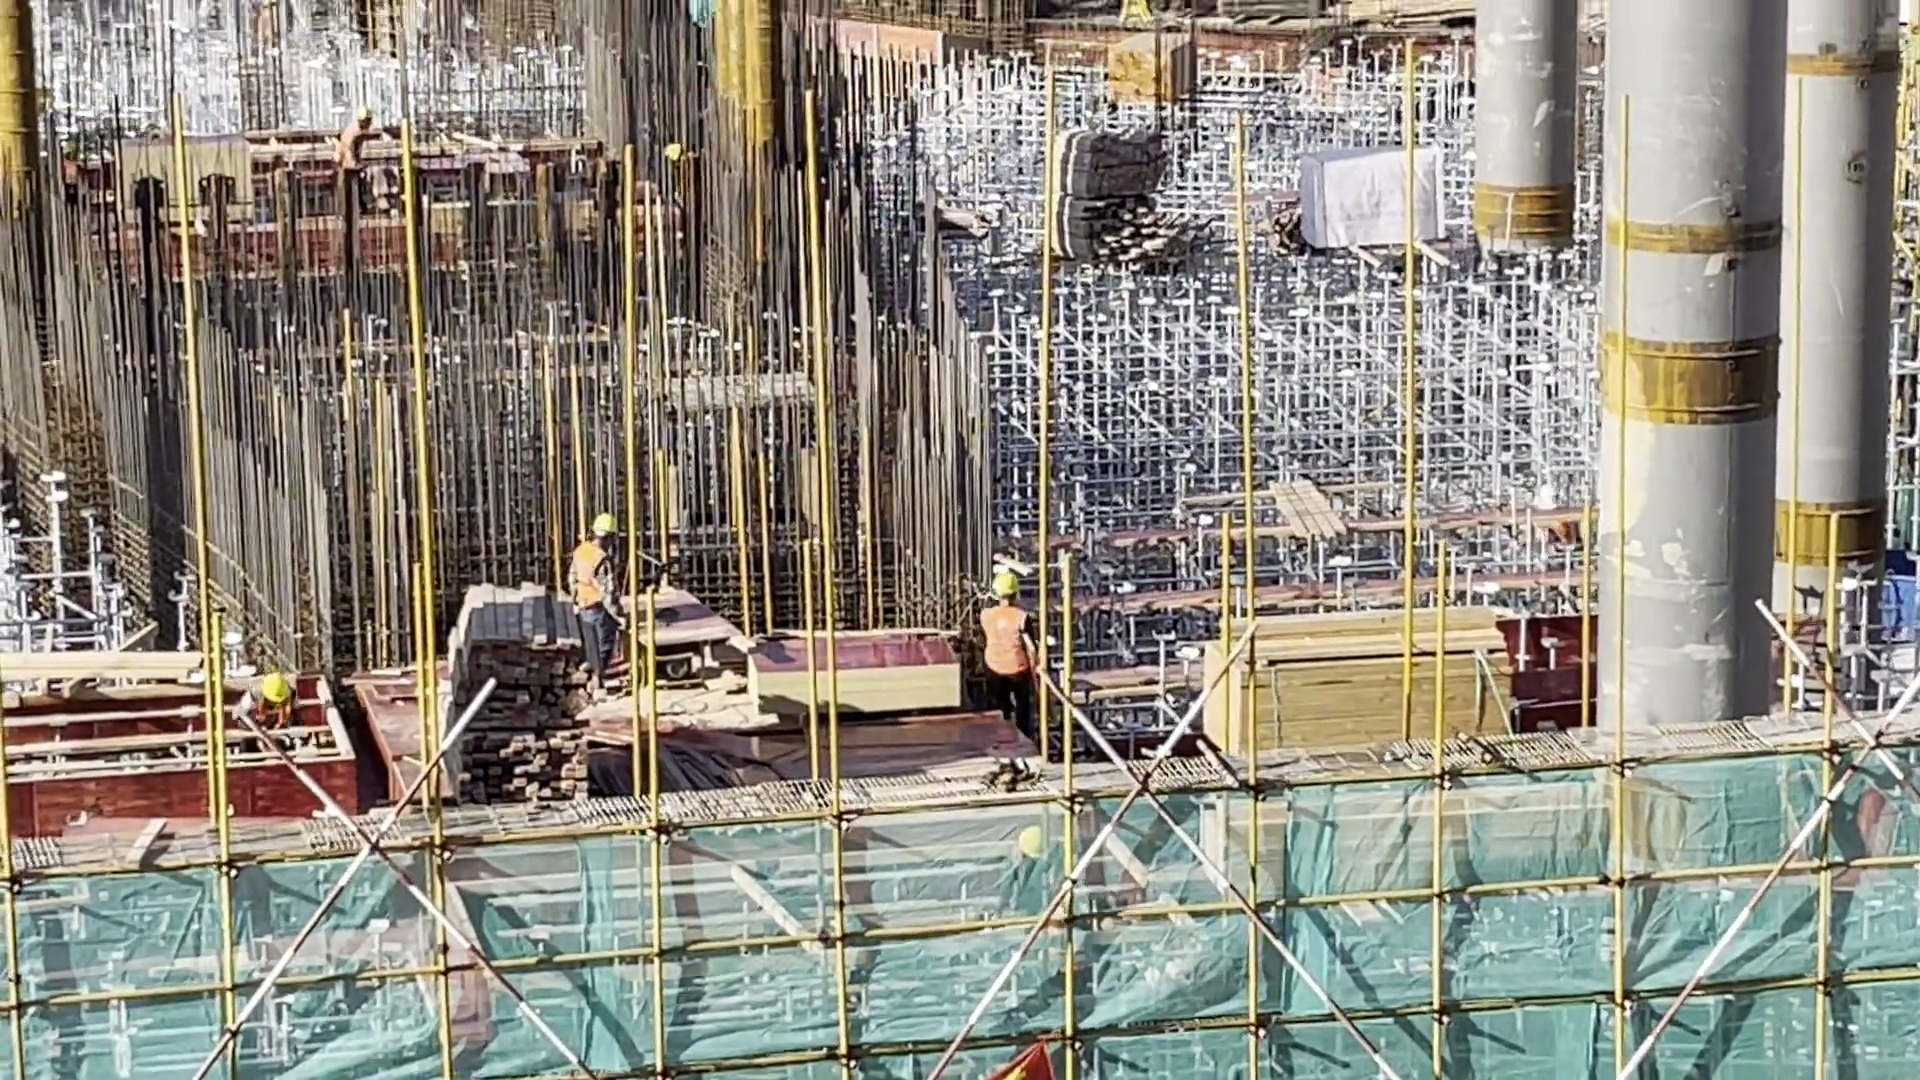helmet: (256, 668, 297, 706), (588, 504, 618, 549), (989, 568, 1022, 609)
person: (975, 560, 1052, 735), (563, 502, 629, 691), (233, 658, 303, 752)
vest: (979, 601, 1030, 677), (570, 543, 608, 607)
wood: (1184, 595, 1537, 774), (436, 546, 600, 808)
